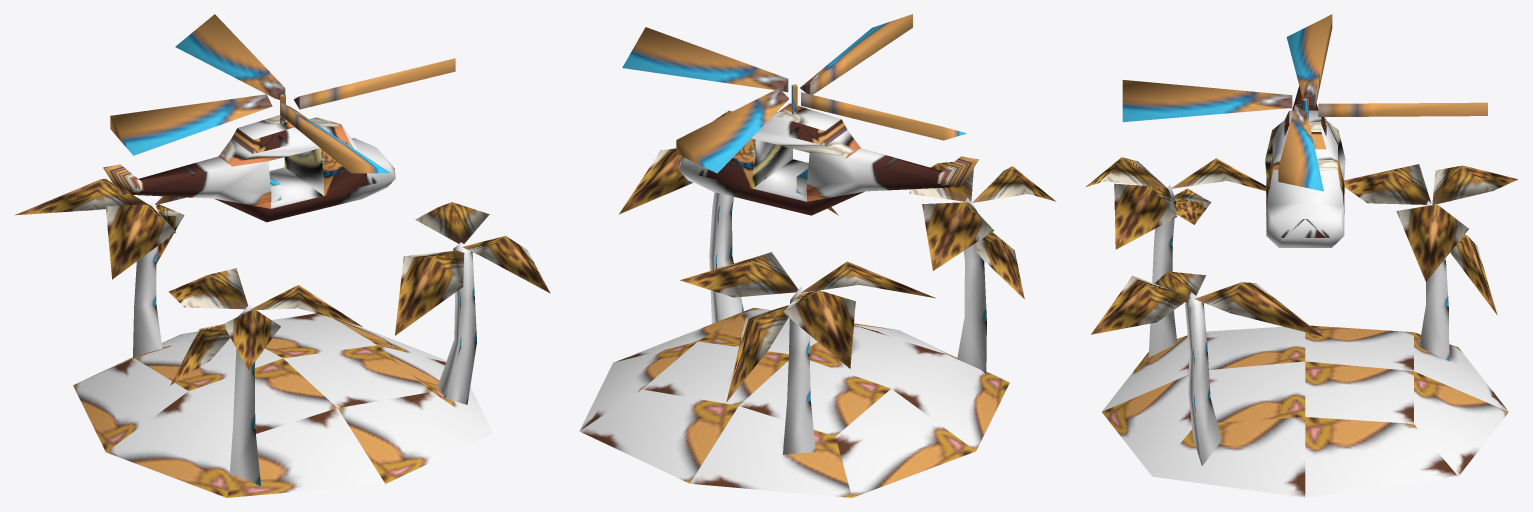
Rendered from copy.ico.obj.
3 views of the same model, side by side, from view 1: azimuth 30°, elevation 25°; view 2: azimuth 150°, elevation 25°; view 3: azimuth 270°, elevation 25° (orthographic). The views are drawn at different scales.
Bounding box in the file's own units: 4.61 × 3.99 × 4.88.
